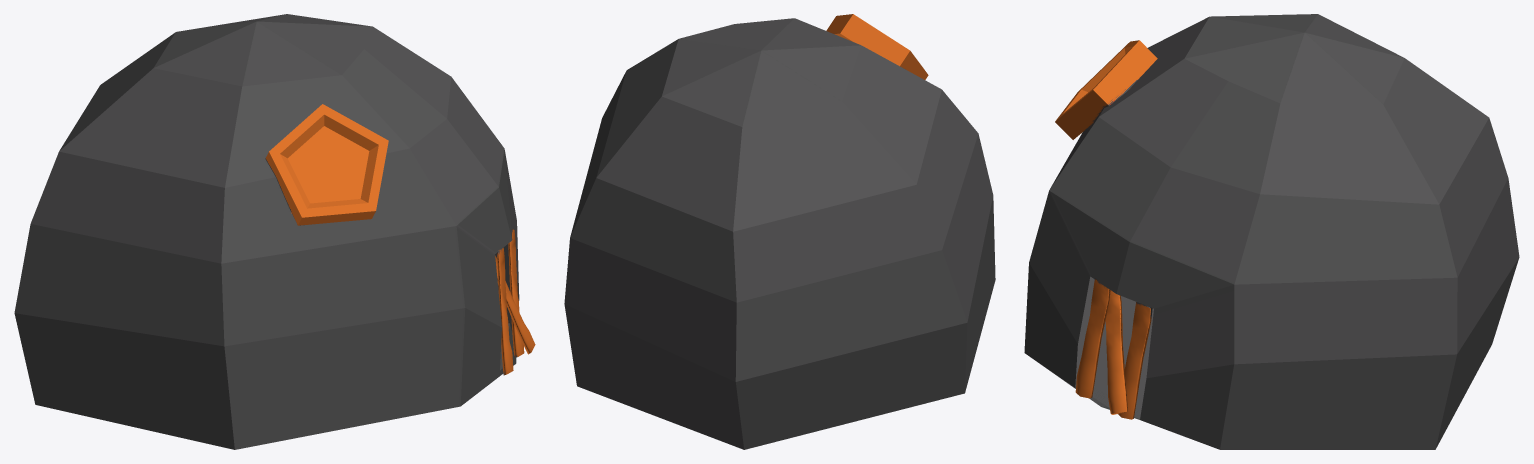
The model's file is Home_Redond_5_.fbx.
The picture shows the model from 3 angles, left to right: view 1: azimuth 30°, elevation 25°; view 2: azimuth 150°, elevation 25°; view 3: azimuth 270°, elevation 25°; orthographic projection. The views are drawn at different scales.
Parts seen in each view (by area): view 1: node_id4, node_id6, node_id8, node_id10, node_id12; view 2: node_id4, node_id6; view 3: node_id4, node_id6, node_id12, node_id8, node_id10.
Boxes of the visible parts, left/top/right/bottom form: node_id4: left=14, top=14, right=519, bottom=449; node_id6: left=265, top=104, right=388, bottom=225; node_id8: left=497, top=248, right=513, bottom=375; node_id10: left=508, top=229, right=524, bottom=357; node_id12: left=495, top=256, right=535, bottom=354; node_id4: left=564, top=18, right=995, bottom=449; node_id6: left=826, top=14, right=928, bottom=79; node_id4: left=1024, top=14, right=1519, bottom=449; node_id6: left=1055, top=40, right=1157, bottom=139; node_id12: left=1105, top=290, right=1127, bottom=414; node_id8: left=1075, top=278, right=1110, bottom=398; node_id10: left=1118, top=302, right=1152, bottom=419.
Bounding box in the file's own units: 0.5485 × 0.4071 × 0.52.
5 materials, 5 textured.
